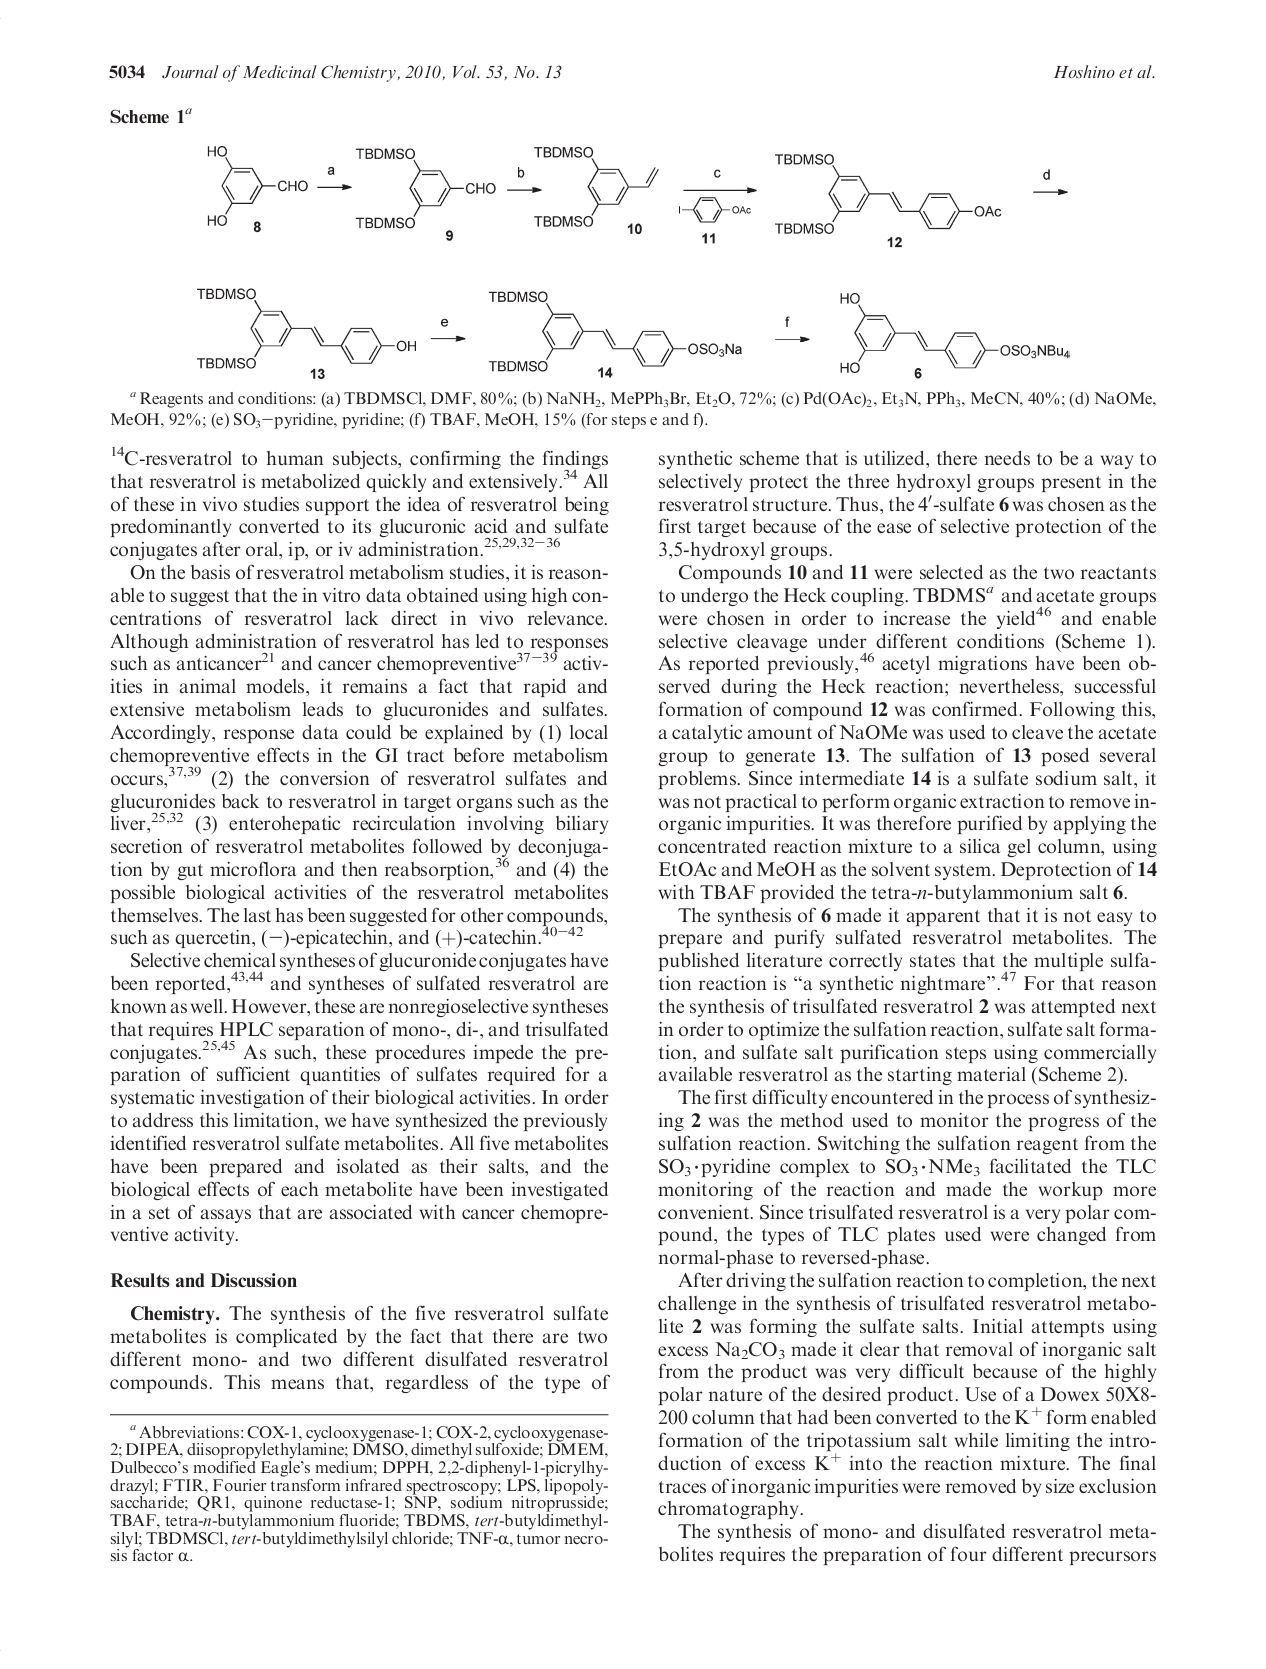exist_molecular: (485, 286, 743, 371), (770, 149, 1005, 235), (836, 289, 1072, 372), (193, 285, 419, 370), (352, 144, 495, 231), (531, 144, 661, 231), (202, 142, 309, 227)
